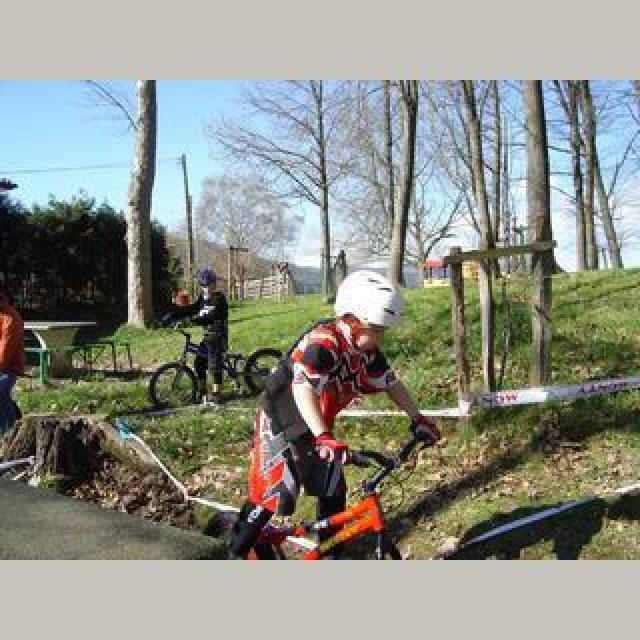MC-Bike: (238, 268, 438, 552), (176, 268, 230, 398)
Person: (234, 436, 430, 560), (148, 326, 284, 410)
